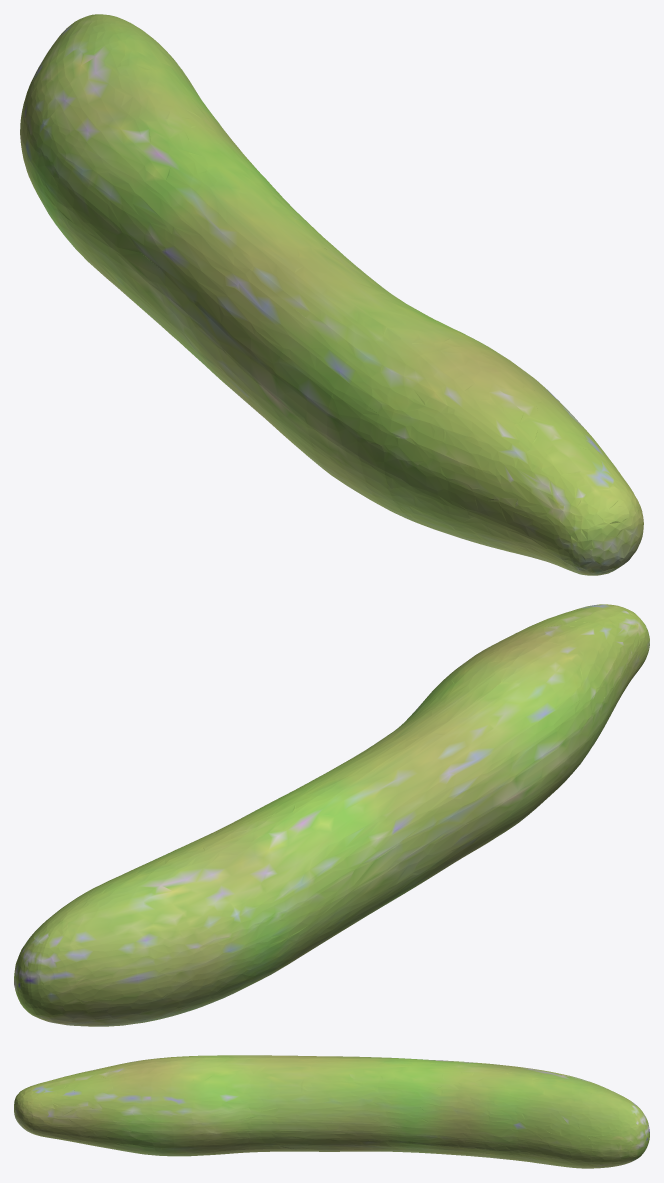
Rendered from 5_mesh_cousin_03.glb.
3 renders of one model, top to bottom at view 1: azimuth 30°, elevation 25°; view 2: azimuth 150°, elevation 25°; view 3: azimuth 270°, elevation 25°, orthographic. The views are drawn at different scales.
Visible parts, largest first — view 1: geometry_0; view 2: geometry_0; view 3: geometry_0.
Part boxes in pixels (<box>): geometry_0: <box>20,14,643,575</box>; geometry_0: <box>14,604,649,1026</box>; geometry_0: <box>14,1055,649,1168</box>.
Bounding box in the file's own units: 0.2213 × 0.1535 × 0.9995.
